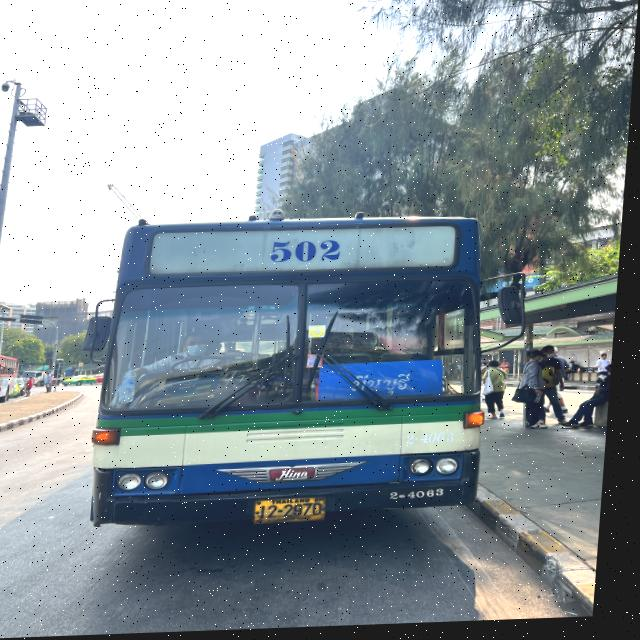BMTA-bus: (97, 220, 491, 531)
Bus Line Number: (255, 236, 364, 270)
Bus Side Number: (394, 487, 458, 508)
Destination Sign: (324, 360, 453, 406)
